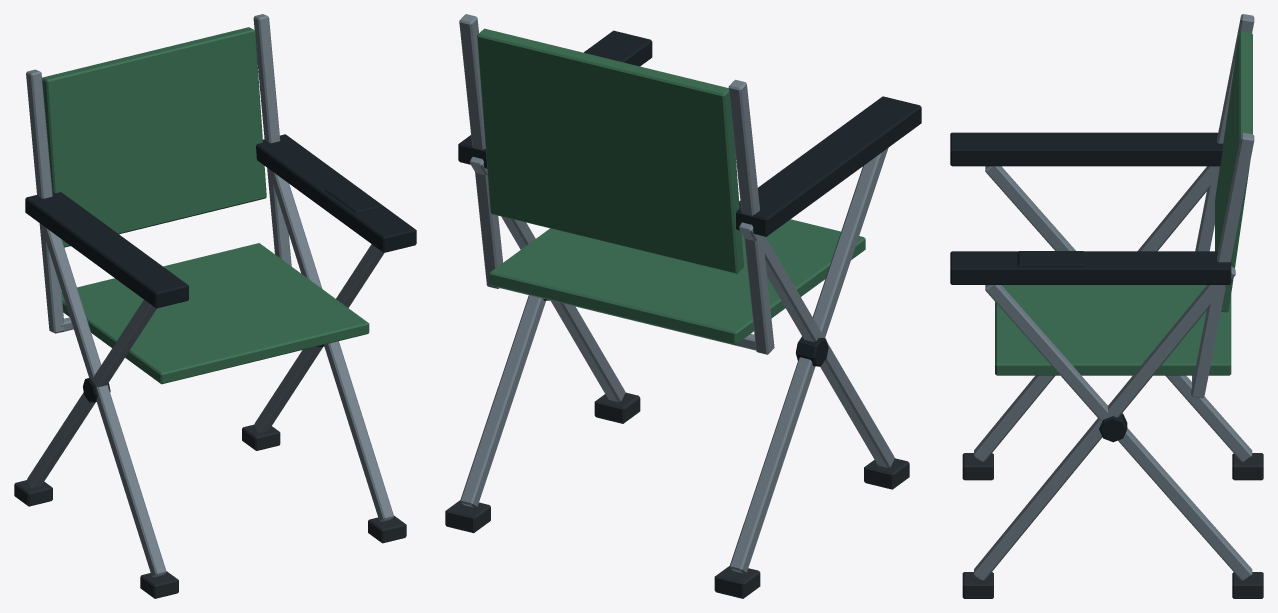
Rendered from b17_portable_folding_camp_chair.glb.
3 renders of one model, left to right at view 1: azimuth 30°, elevation 25°; view 2: azimuth 150°, elevation 25°; view 3: azimuth 270°, elevation 25°, orthographic. The views are drawn at different scales.
Visible parts, largest first — view 1: b17_portable_folding_camp_chair; view 2: b17_portable_folding_camp_chair; view 3: b17_portable_folding_camp_chair.
Boxes of the visible parts, x1,y1,x2,y2 form: b17_portable_folding_camp_chair: (14,14,416,598); b17_portable_folding_camp_chair: (445,14,921,598); b17_portable_folding_camp_chair: (950,14,1263,598).
Size of the model in its own units: 0.575 by 0.8996 by 0.558.
